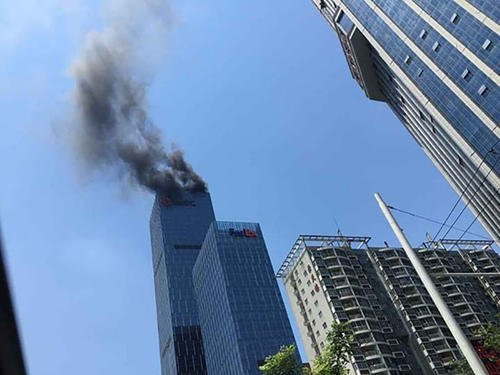smoke: (76, 37, 202, 189)
